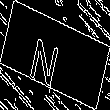N_N: (37, 25, 73, 85)
